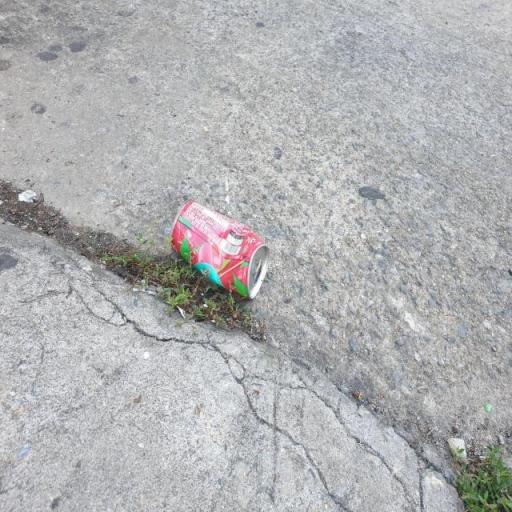metal: (152, 181, 285, 312)
